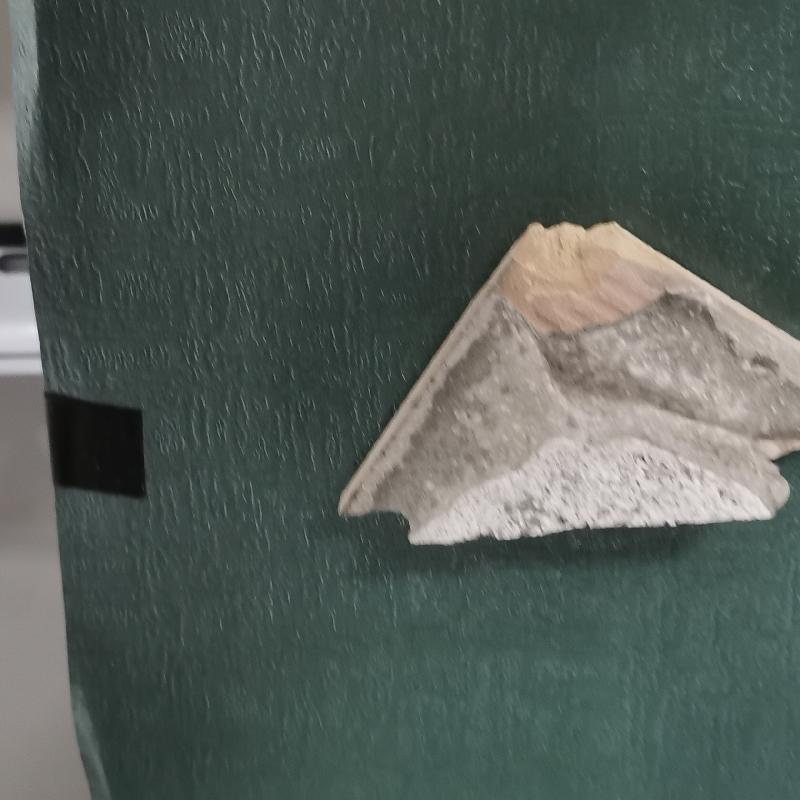tile: (330, 210, 800, 554)
